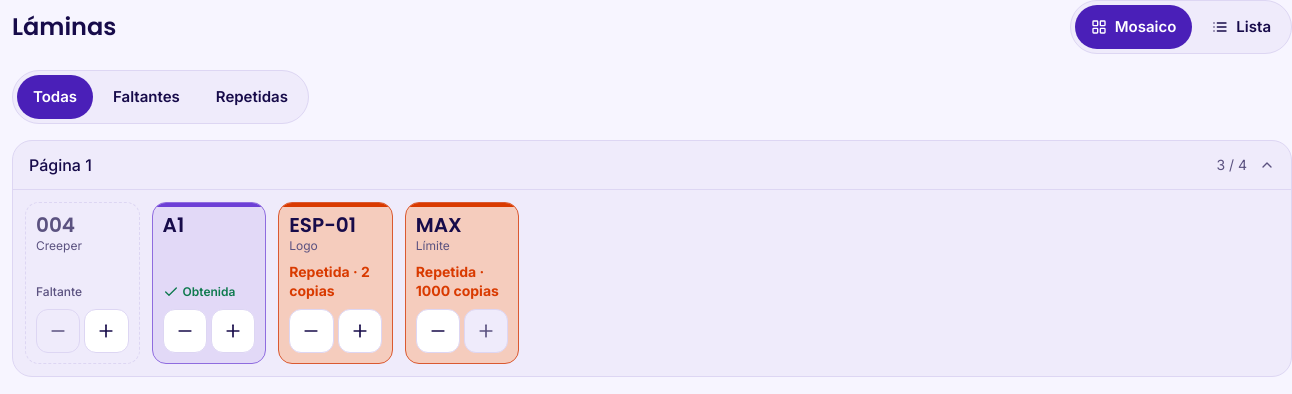
StickerCollection › filters the mosaic to missing or duplicate stickers and back
Expected: the element named "Filtrar láminas" is shown, left=12, top=70, right=309, bottom=124
Click the button "Faltantes" at (146, 97), box left=97, top=75, right=196, bottom=119
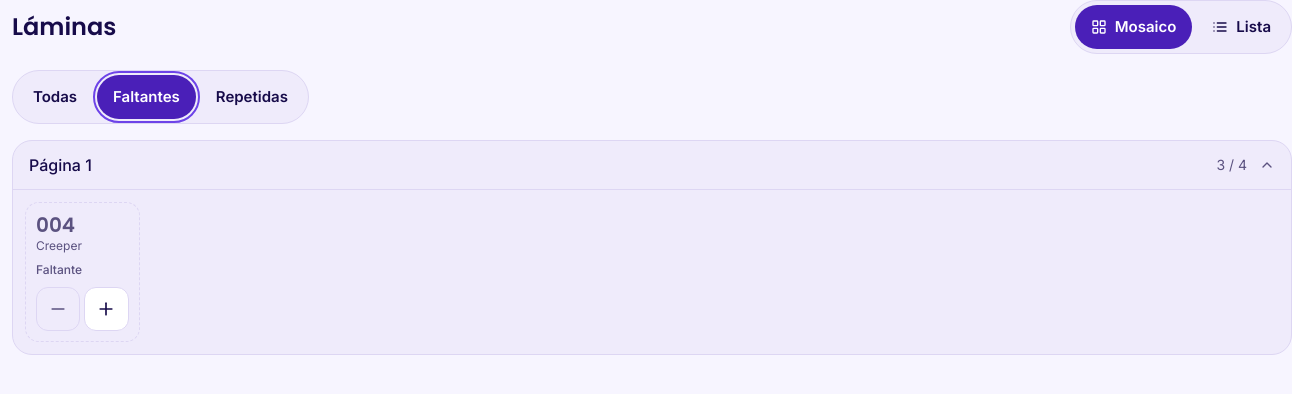
Expected: the text "004" is shown, left=36, top=211, right=75, bottom=239
Now the text "A1" is gone
Now the text "ESP-01" is gone
Click the button "Repetidas" at (252, 97), box left=200, top=75, right=304, bottom=119
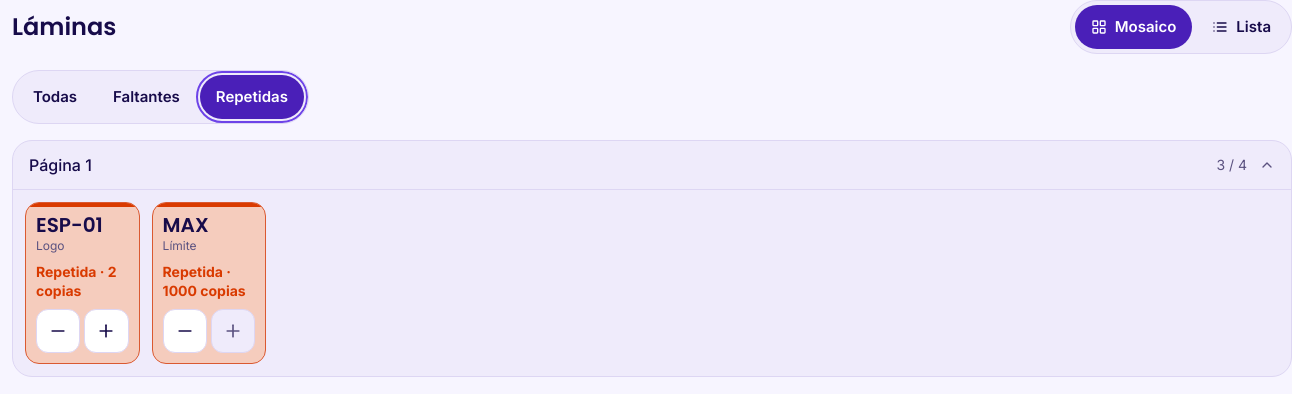
Now the text "004" is gone
Now the text "ESP-01" is shown, box left=36, top=211, right=103, bottom=239
Now the text "MAX" is shown, box left=163, top=211, right=209, bottom=239
Click the button "Todas" at (55, 97), box left=17, top=75, right=93, bottom=119
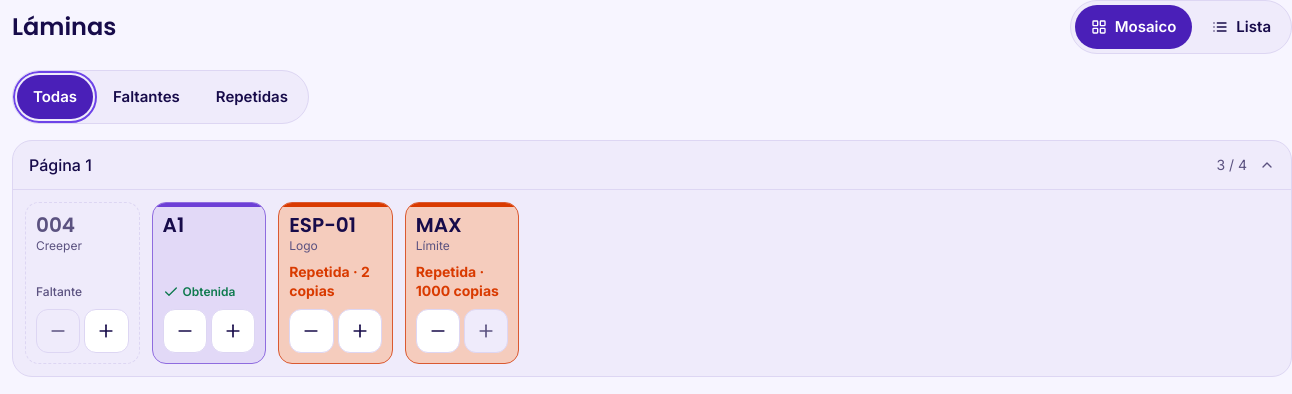
Now the text "004" is shown, box left=36, top=211, right=75, bottom=239
Now the text "A1" is shown, box left=163, top=211, right=184, bottom=239
